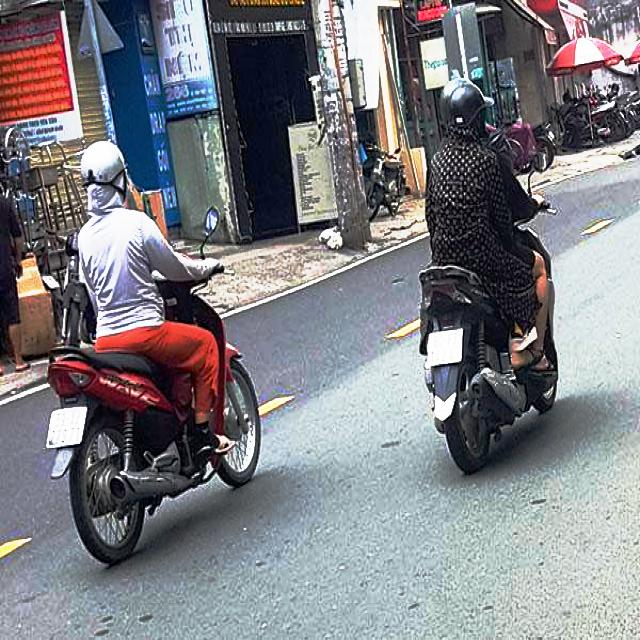license_plate: (46, 410, 88, 449), (430, 331, 463, 368)
